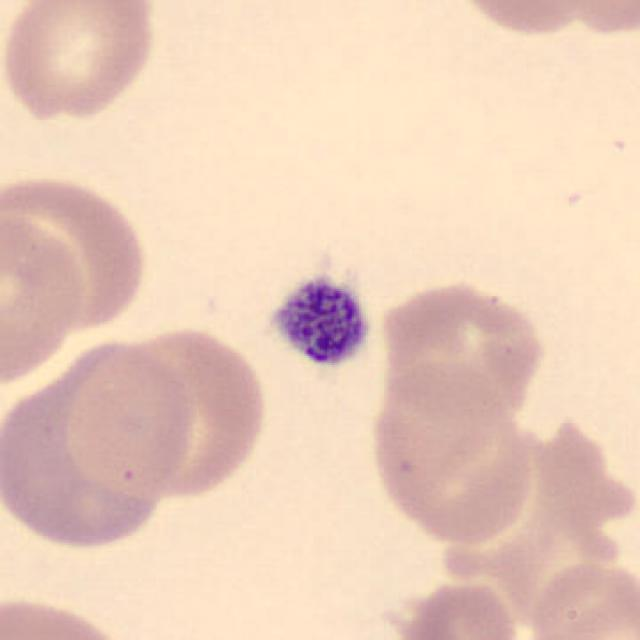Platelets: (265, 270, 375, 374)
RBC: (0, 330, 199, 550), (436, 417, 627, 607), (364, 362, 542, 550), (117, 321, 272, 502), (373, 275, 550, 425), (3, 169, 153, 337), (0, 0, 164, 125), (0, 205, 89, 392), (524, 555, 638, 640), (391, 575, 526, 640), (0, 590, 135, 640), (443, 0, 606, 39), (544, 0, 638, 39)
